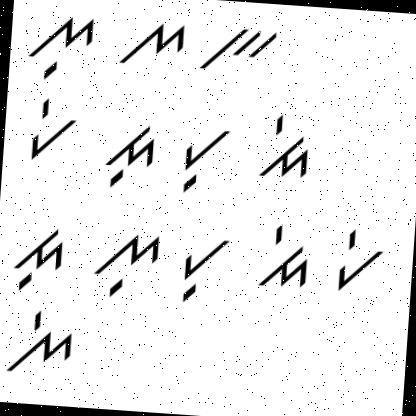de: (249, 110, 320, 188), (254, 223, 312, 295)
du: (95, 112, 160, 196), (5, 224, 67, 295)
na: (117, 16, 189, 78)
ne: (3, 306, 79, 382)
nu: (20, 9, 97, 88), (87, 228, 163, 303)
pe: (20, 96, 84, 164), (332, 228, 390, 298)
pu: (173, 124, 234, 200), (175, 232, 236, 308)
